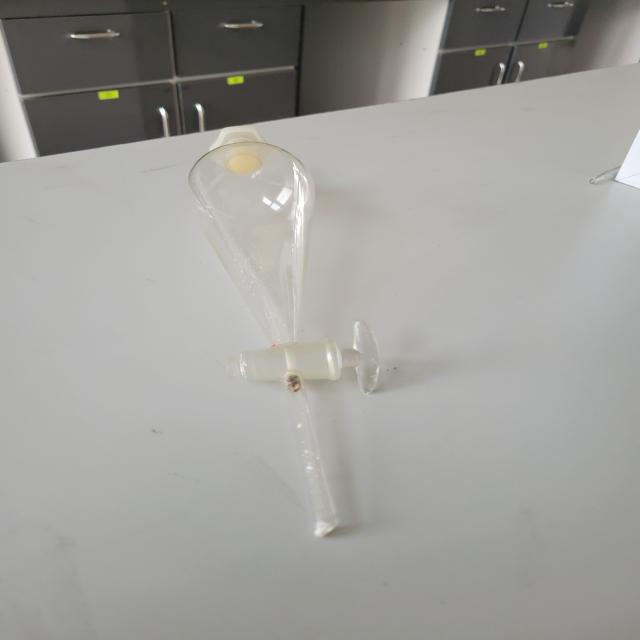Separating_Funnel: (136, 115, 446, 559)
